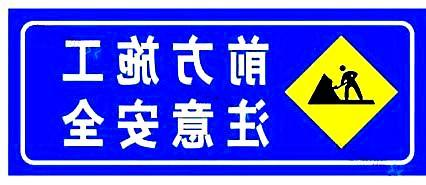sign: (16, 15, 422, 170)
